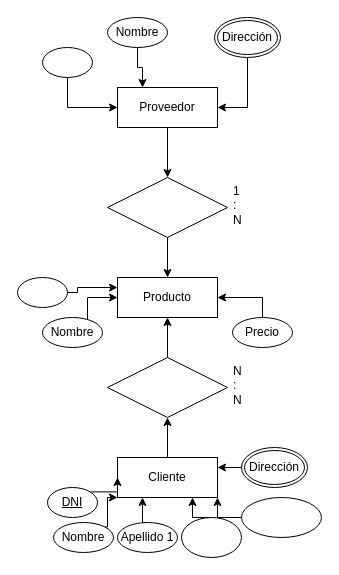
Some shapes in this 339 by 575 pixel diagram are drawn without their labels. The centre of each missing label's shape, as x and y in pixels:
"Apellido 2" goes at (211,537).
"Compra" goes at (167,387).
"Fecha de nacimiento" goes at (281,517).
"ID" goes at (42,292).
"NIF" goes at (67,62).
"Suministra" goes at (167,207).
